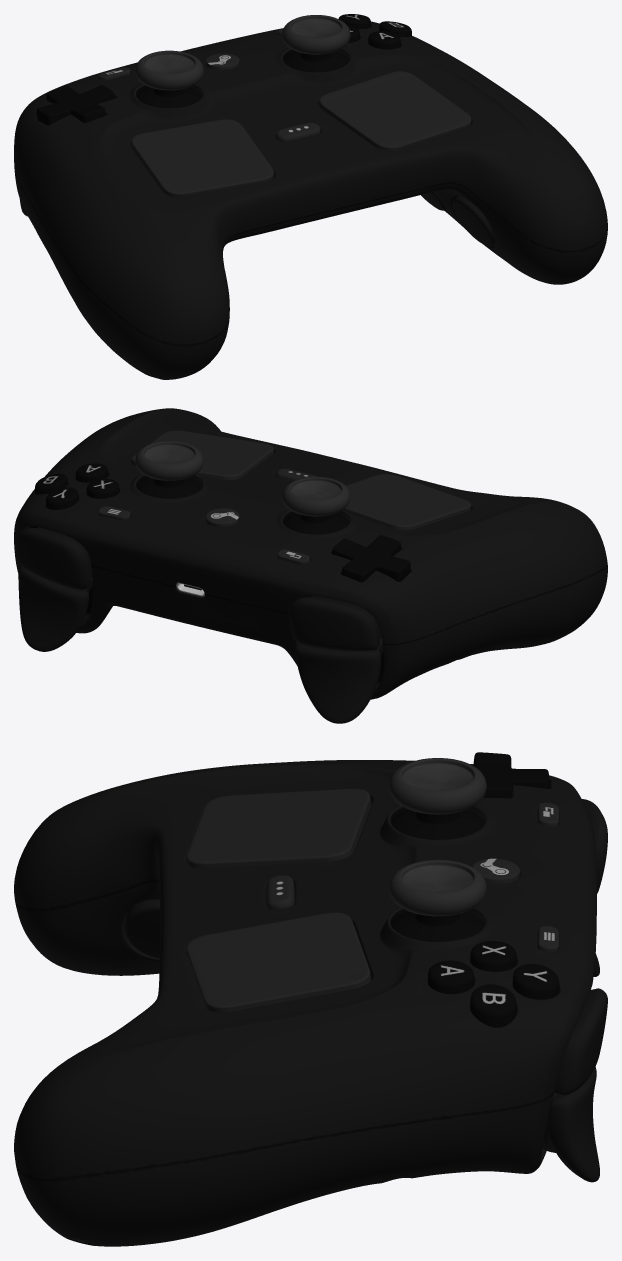
File: steam-controller.glb
3 renders of one model, top to bottom at view 1: azimuth 30°, elevation 25°; view 2: azimuth 150°, elevation 25°; view 3: azimuth 270°, elevation 25°, orthographic. The views are drawn at different scales.
Parts seen in each view (by area): view 1: body, part_pad_l, part_pad_r, part_stick_l, part_stick_r, part_back_r5, part_dpad_left, part_qam, part_dpad_down, part_a; view 2: body, part_trigger_l, part_pad_l, part_trigger_r, part_bumper_l, part_bumper_r, part_stick_l, part_stick_r, part_pad_r, part_dpad_left, part_dpad_up, part_y (+6 smaller); view 3: body, part_pad_r, part_pad_l, part_stick_r, part_stick_l, part_trigger_r, part_bumper_r, part_back_l5, part_b, part_y, part_a, part_x (+5 smaller).
Part boxes in pixels (box(x1,y1,x2,y2)): body: box(14, 21, 607, 379); part_pad_l: box(131, 119, 273, 197); part_pad_r: box(318, 71, 471, 150); part_stick_l: box(135, 50, 203, 108); part_stick_r: box(282, 15, 350, 72); part_back_r5: box(452, 195, 495, 245); part_dpad_left: box(36, 101, 75, 125); part_qam: box(275, 122, 320, 141); part_dpad_down: box(71, 101, 105, 122); part_a: box(368, 31, 400, 49); body: box(14, 408, 607, 699); part_trigger_l: box(295, 638, 383, 723); part_pad_l: box(343, 474, 471, 530); part_trigger_r: box(18, 566, 92, 651); part_bumper_l: box(289, 595, 381, 651); part_bumper_r: box(16, 527, 92, 589); part_stick_l: box(282, 476, 350, 534); part_stick_r: box(135, 441, 203, 498); part_pad_r: box(131, 430, 273, 479); part_dpad_left: box(371, 554, 410, 581); part_dpad_up: box(341, 556, 376, 582); part_y: box(46, 487, 78, 509); body: box(14, 760, 596, 1246); part_pad_r: box(186, 912, 371, 1012); part_pad_l: box(186, 788, 371, 868); part_stick_r: box(389, 859, 486, 941); part_stick_l: box(389, 758, 486, 839); part_trigger_r: box(542, 1067, 599, 1182); part_bumper_r: box(554, 988, 607, 1095); part_back_l5: box(125, 899, 159, 958); part_b: box(470, 984, 516, 1027); part_y: box(513, 963, 559, 999); part_a: box(428, 960, 474, 994); part_x: box(470, 941, 516, 971).
Bounding box in the file's own units: 15.88 × 6.04 × 11.68.
Materials: 2 (2 with a texture image).
